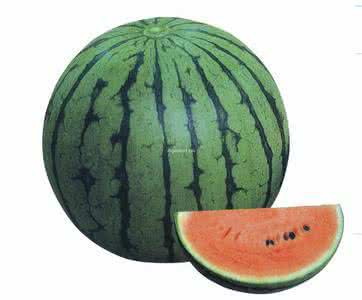watermelon: (40, 11, 293, 268)
